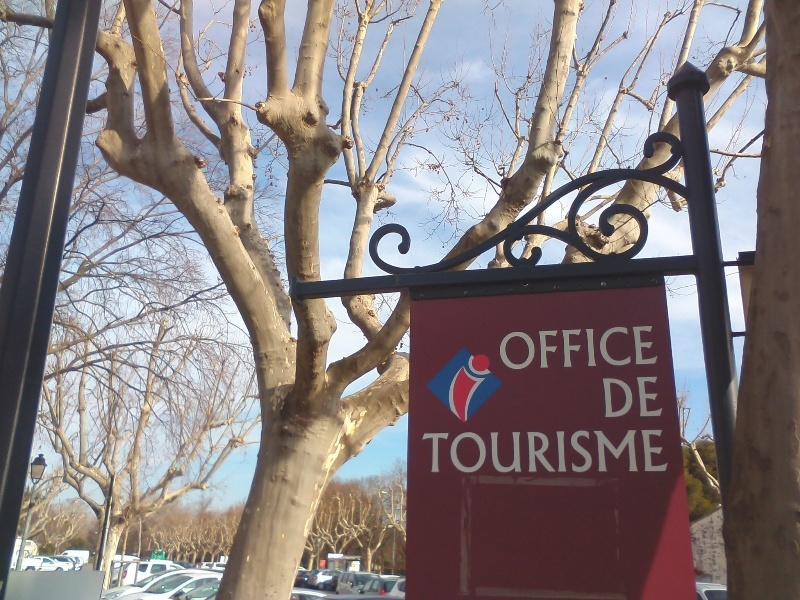text: (433, 426, 448, 477), (449, 426, 464, 477), (465, 426, 480, 477), (481, 426, 496, 477), (497, 426, 512, 477), (513, 426, 528, 477), (529, 426, 544, 477), (545, 426, 560, 477), (561, 426, 576, 477), (577, 426, 592, 477), (593, 426, 608, 477), (609, 426, 624, 477), (625, 426, 640, 477), (641, 426, 656, 477), (657, 426, 672, 477), (497, 323, 512, 372), (513, 323, 528, 372), (529, 323, 544, 372), (545, 323, 560, 372), (561, 323, 576, 372), (577, 323, 592, 372), (593, 323, 608, 372), (609, 323, 624, 372), (625, 323, 640, 372), (641, 323, 656, 372), (609, 376, 624, 422), (625, 376, 640, 422), (641, 376, 656, 422), (422, 426, 432, 477), (657, 376, 666, 422), (601, 376, 608, 422), (657, 323, 663, 372)
